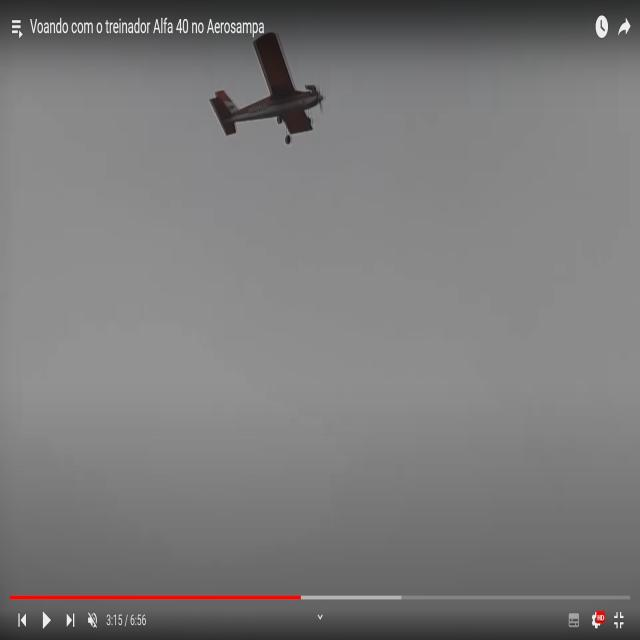iha: (230, 3, 287, 49)
